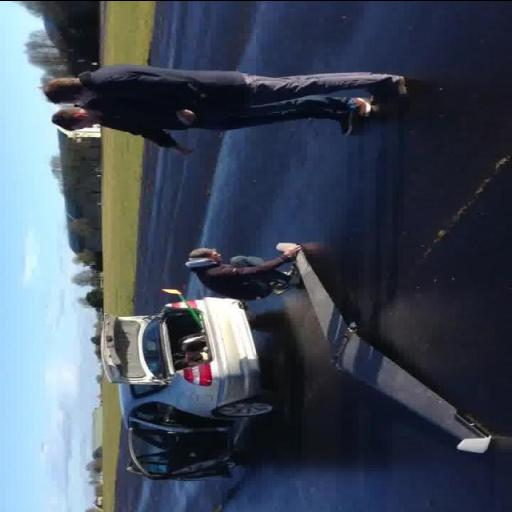uav: (272, 240, 498, 458)
